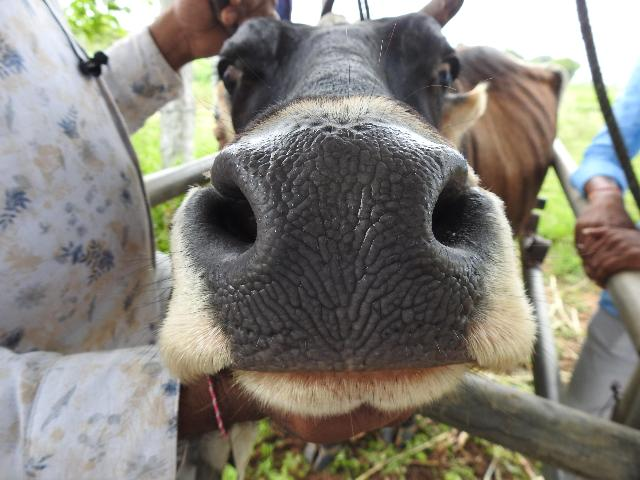Muzzle: (252, 142, 432, 346)
